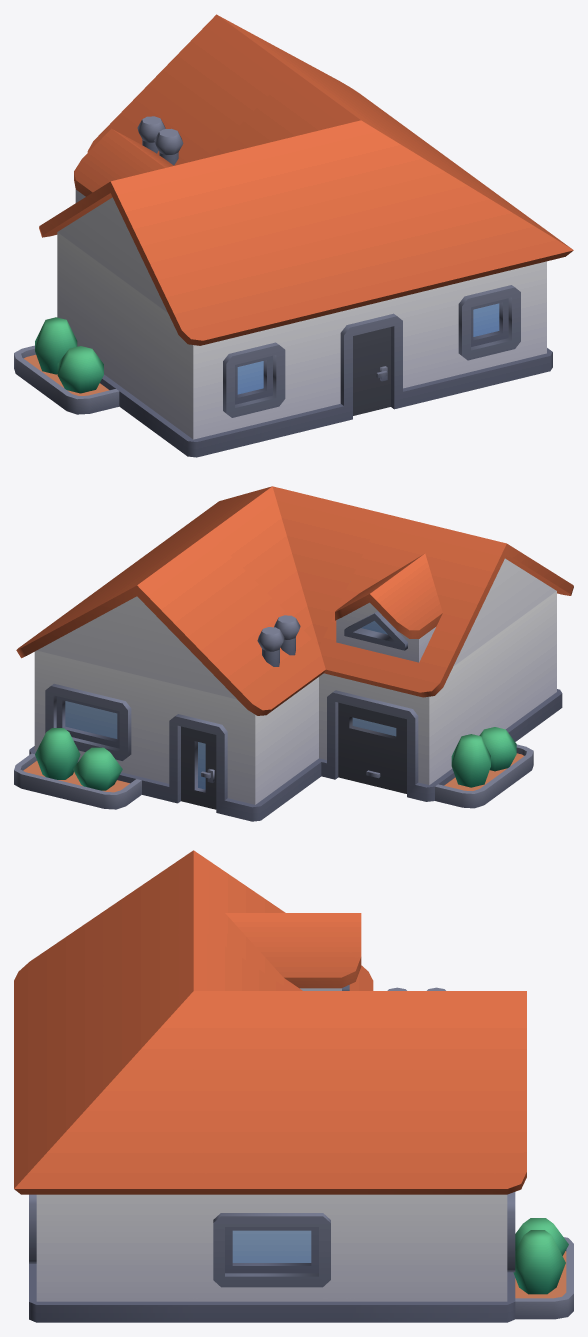
The model's file is house_suburb_m_warm.glb.
3 renders of one model, top to bottom at view 1: azimuth 30°, elevation 25°; view 2: azimuth 150°, elevation 25°; view 3: azimuth 270°, elevation 25°, orthographic. The views are drawn at different scales.
Parts seen in each view (by area): view 1: building-type-m; view 2: building-type-m; view 3: building-type-m.
Part boxes in pixels (x1,y1,x2,y2): building-type-m: [14, 14, 573, 457]; building-type-m: [14, 486, 573, 821]; building-type-m: [14, 850, 573, 1322].
Size of the model in its own units: 1.43 by 0.7375 by 1.43.
1 material, 1 textured.
